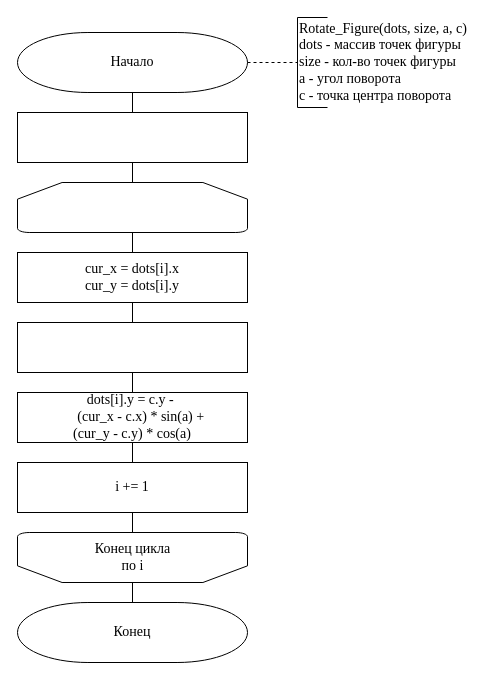
The diagram is 485 pixels wide and 680 high, and some of its shapes have lost their labels. The shapes that lost their labels are listed below. From the top down, each one's centre as x and y in pixels, then its label:
At point (132, 137): "i = 0".
At point (132, 207): "Цикл по i i < size".
At point (132, 347): "dots[i].x = c.x + (cur_x - c.x) * cos(a) + (cur_y - c.y) * sin(a)".
